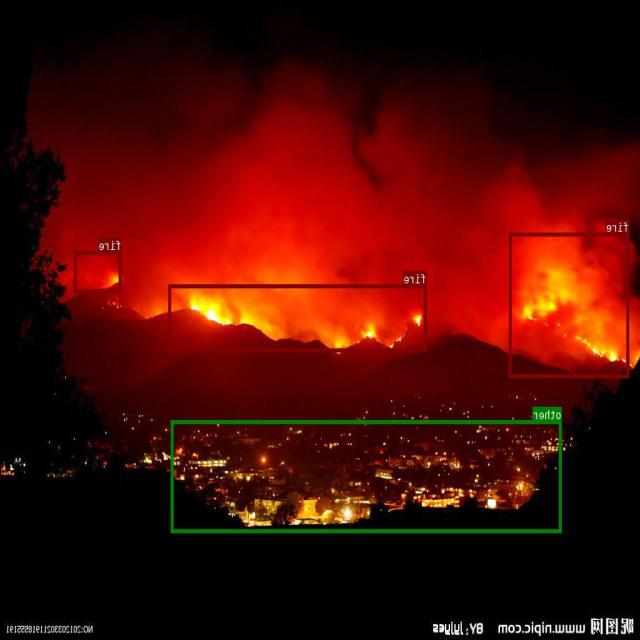fire: (169, 284, 427, 352), (510, 232, 630, 377), (75, 251, 122, 292)
other: (171, 420, 562, 532)
